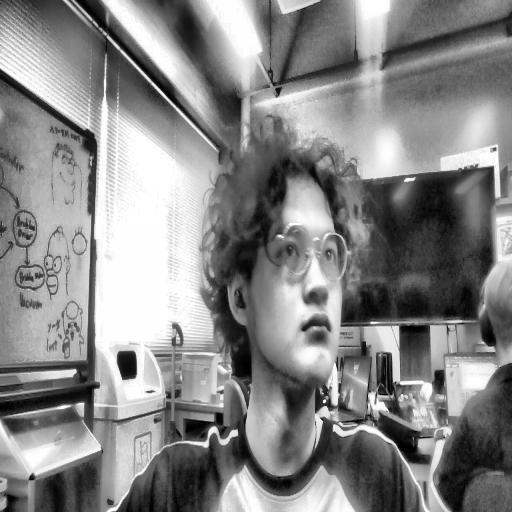Daifuku: (198, 108, 353, 410)
